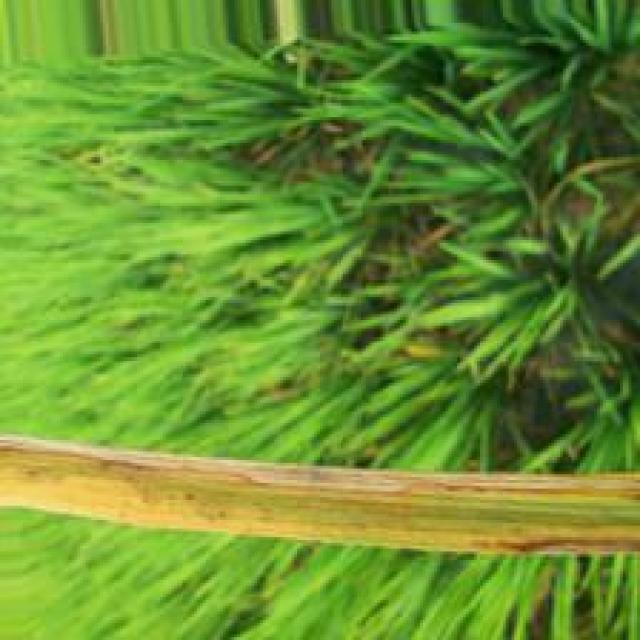Leaf_Blast: (0, 435, 640, 505), (448, 520, 640, 555)
